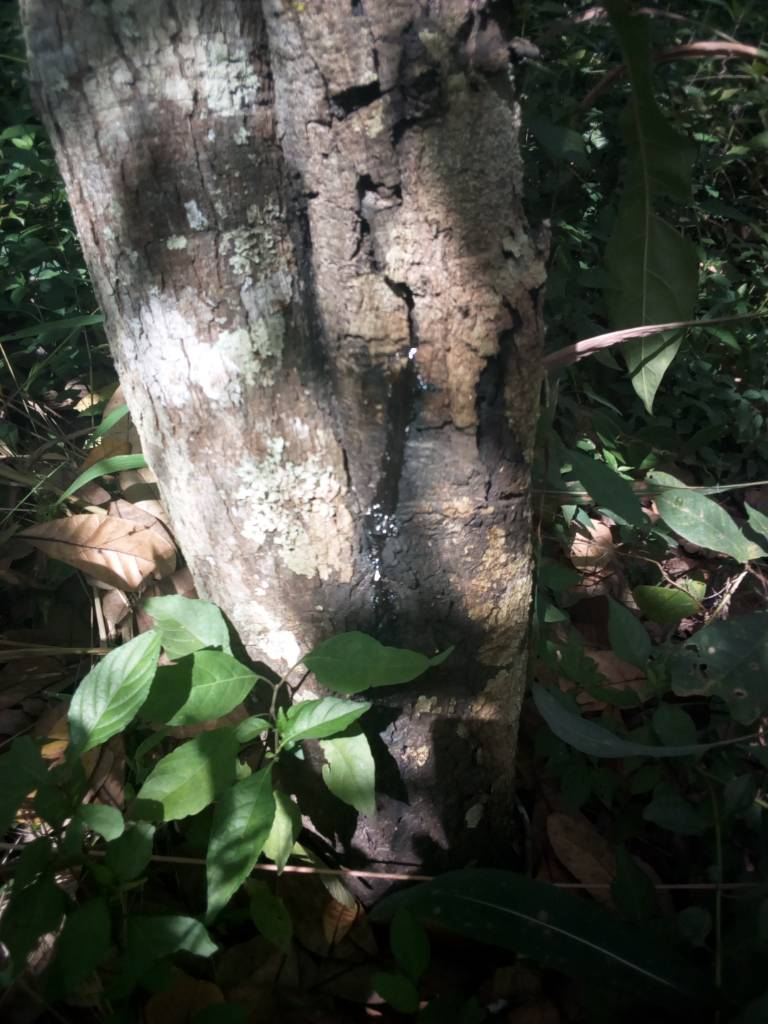Gommose: (343, 367, 493, 633)
